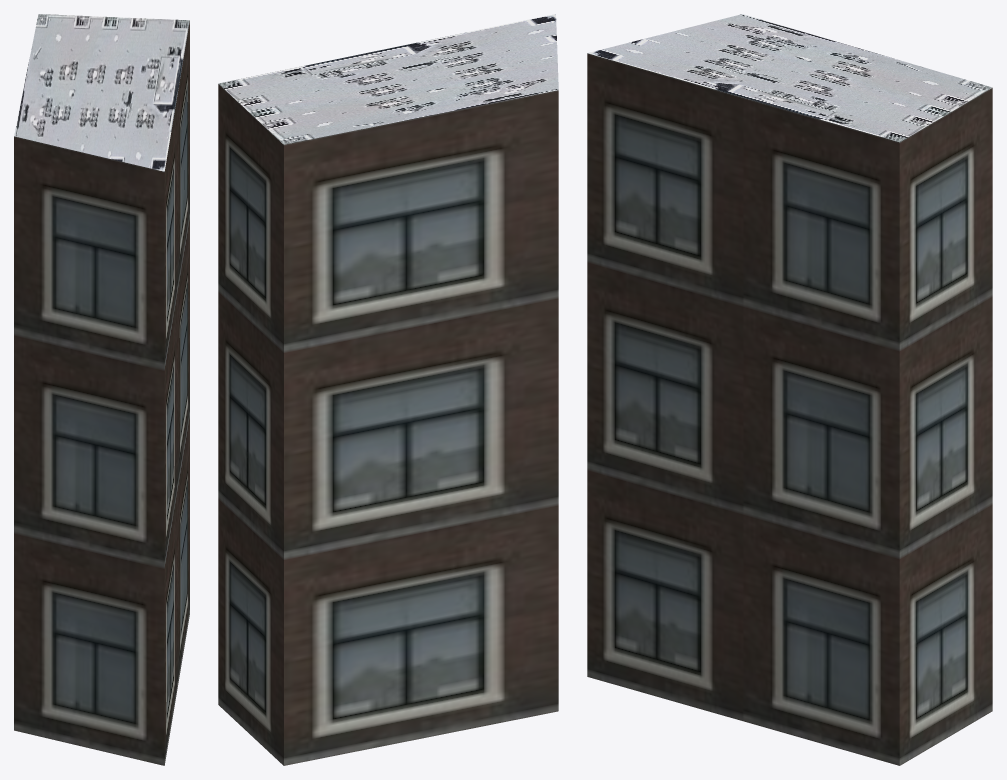
File: ResTex__3439.fbx
The picture shows the model from 3 angles, left to right: view 1: azimuth 30°, elevation 25°; view 2: azimuth 150°, elevation 25°; view 3: azimuth 270°, elevation 25°; orthographic projection. The views are drawn at different scales.
Visible parts, largest first — view 1: CityEngineMaterial_16_m, CityEngineMaterial_15_m; view 2: CityEngineMaterial_16_m, CityEngineMaterial_15_m; view 3: CityEngineMaterial_16_m, CityEngineMaterial_15_m.
Part boxes in pixels (bbox=[...]): CityEngineMaterial_16_m: bbox=[14, 21, 189, 765]; CityEngineMaterial_15_m: bbox=[14, 14, 189, 171]; CityEngineMaterial_16_m: bbox=[218, 84, 558, 765]; CityEngineMaterial_15_m: bbox=[218, 14, 558, 144]; CityEngineMaterial_16_m: bbox=[587, 53, 992, 765]; CityEngineMaterial_15_m: bbox=[587, 14, 992, 142].
Bounding box in the file's own units: 3.98 × 9 × 5.31.
2 materials, 2 textured.
